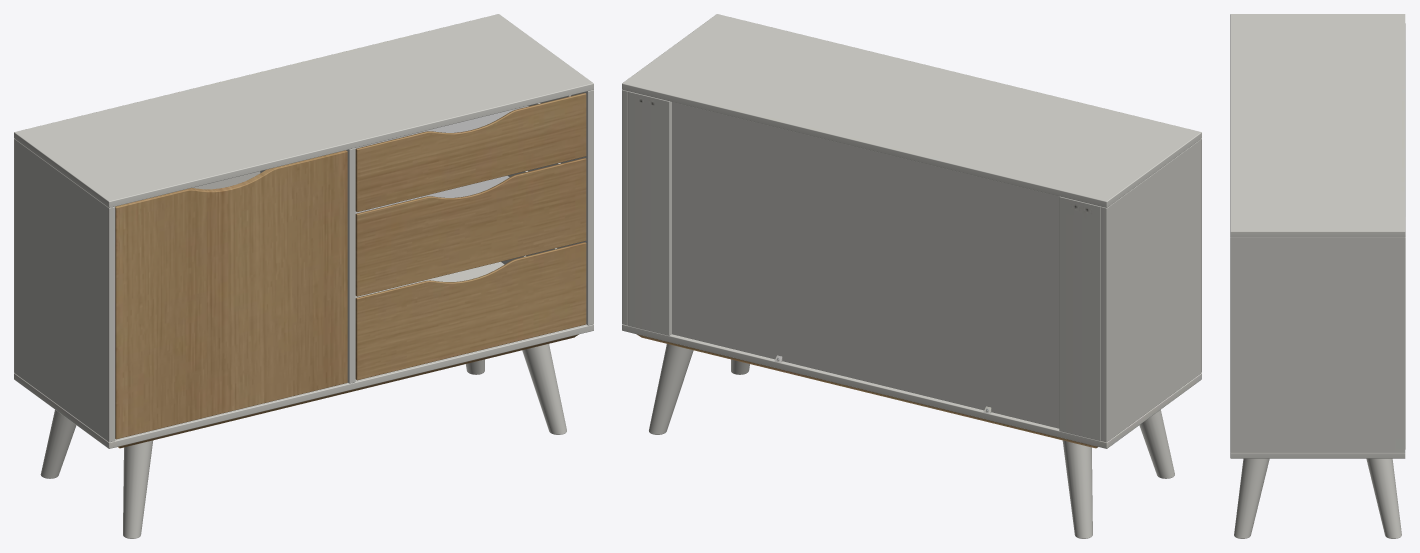
Rendered from abo-B07QF9ZFQZ.glb.
The picture shows the model from 3 angles, left to right: view 1: azimuth 30°, elevation 25°; view 2: azimuth 150°, elevation 25°; view 3: azimuth 270°, elevation 25°; orthographic projection. The views are drawn at different scales.
Bounding box in the file's own units: 1.19 × 0.812 × 0.406.
1 material, 1 textured.
